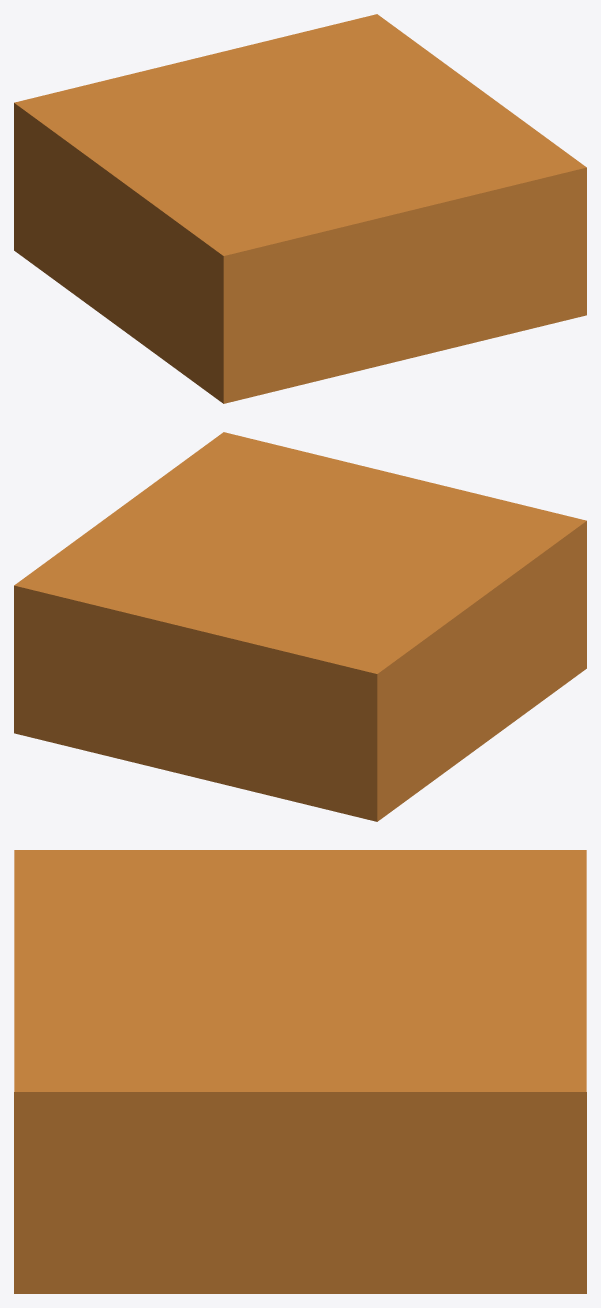
3 views of the same model, one above another, from view 1: azimuth 30°, elevation 25°; view 2: azimuth 150°, elevation 25°; view 3: azimuth 270°, elevation 25° (orthographic). The views are drawn at different scales.
Parts seen in each view (by area): view 1: CORNER-A-38-p4; view 2: CORNER-A-38-p4; view 3: CORNER-A-38-p4.
Boxes of the visible parts, bbox=[...] form: CORNER-A-38-p4: bbox=[14, 14, 586, 403]; CORNER-A-38-p4: bbox=[14, 432, 586, 821]; CORNER-A-38-p4: bbox=[14, 850, 586, 1293].
Bounding box in the file's own units: 0.09 × 0.035 × 0.09.
